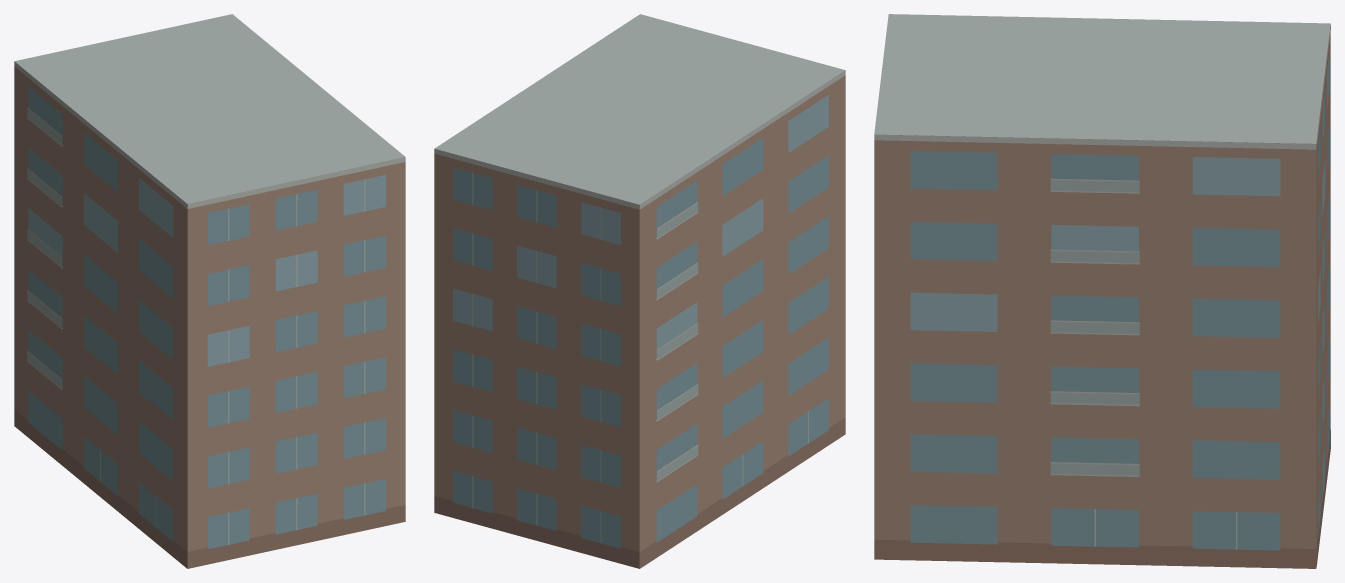
Rendered from survey-upis-32564477.glb.
The picture shows the model from 3 angles, left to right: view 1: azimuth 30°, elevation 25°; view 2: azimuth 150°, elevation 25°; view 3: azimuth 270°, elevation 25°; orthographic projection. The views are drawn at different scales.
Visible parts, largest first — view 1: survey-upis-32564477.tmp; view 2: survey-upis-32564477.tmp; view 3: survey-upis-32564477.tmp.
Boxes of the visible parts, <box> form: survey-upis-32564477.tmp: <box>14,14,405,568</box>; survey-upis-32564477.tmp: <box>434,14,845,568</box>; survey-upis-32564477.tmp: <box>874,14,1330,568</box>.
Bounding box in the file's own units: 11.78 × 17.95 × 17.49.
